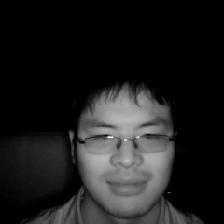happy: (70, 77, 182, 217)
